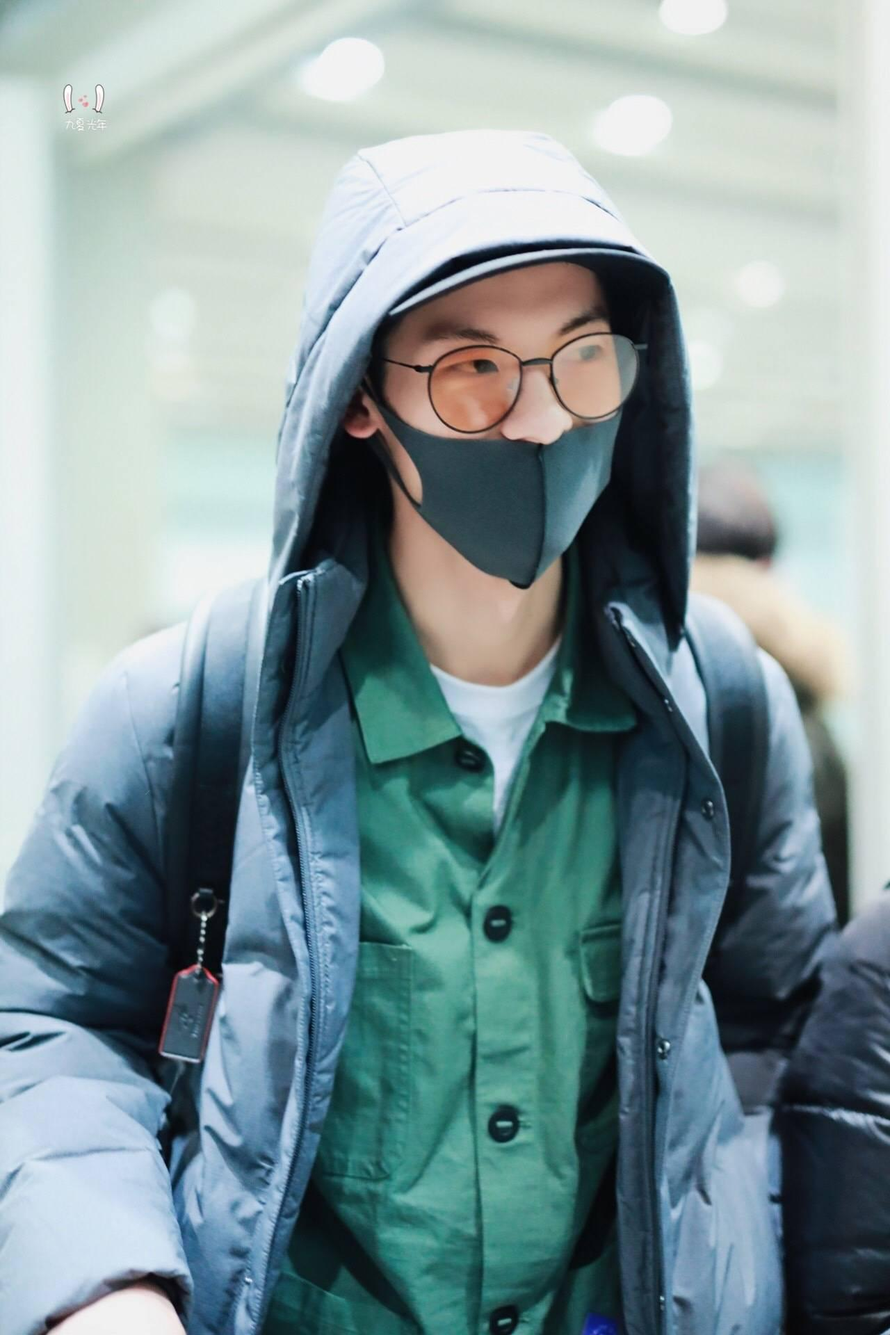WRONG: (385, 282, 621, 572)
